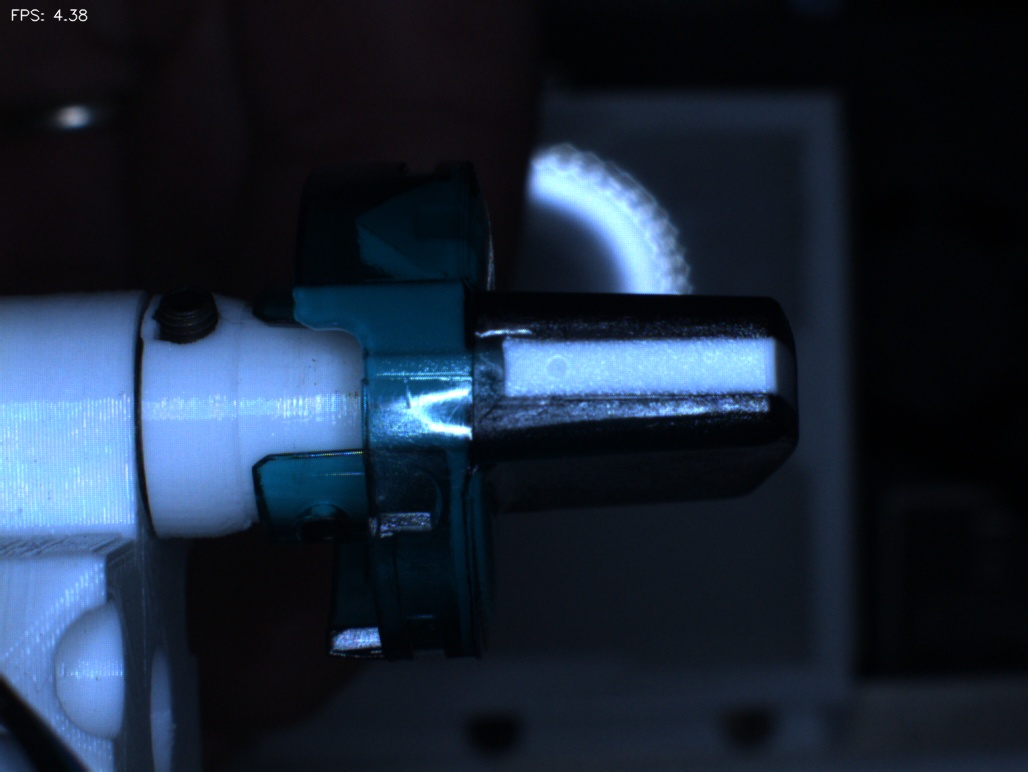DentOk: (328, 194, 402, 282)
